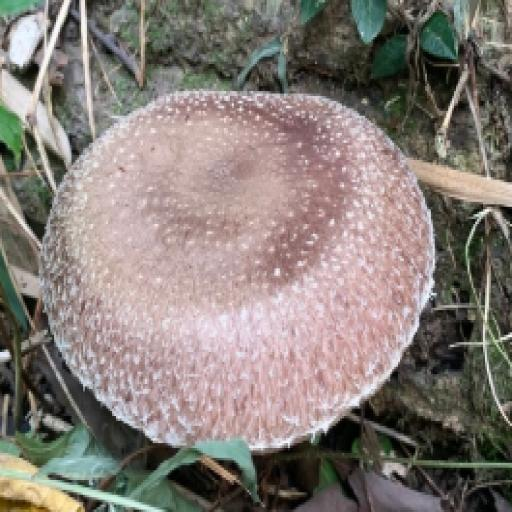Shiitake Mushroom: (0, 0, 488, 500)
